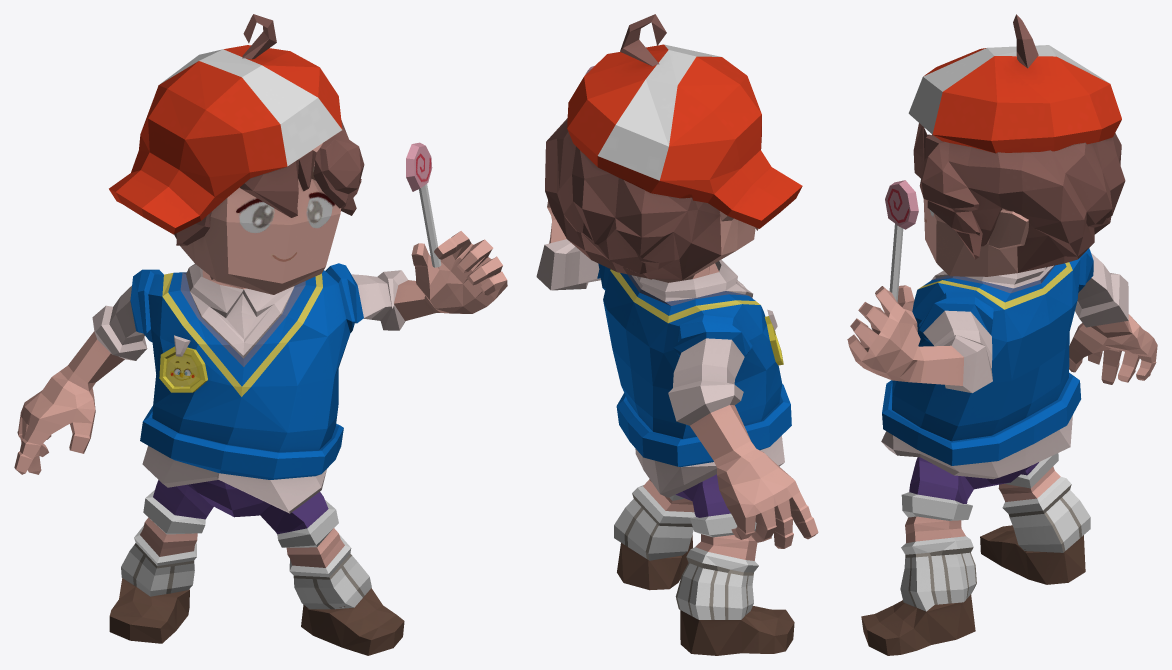
Rendered from SK_Lowpoly_47.gltf.
The picture shows the model from 3 angles, left to right: view 1: azimuth 30°, elevation 25°; view 2: azimuth 150°, elevation 25°; view 3: azimuth 270°, elevation 25°; orthographic projection.
Parts seen in each view (by area): view 1: SK_Lowpoly_Male_047_pose_8_StaticMeshComponent0; view 2: SK_Lowpoly_Male_047_pose_8_StaticMeshComponent0; view 3: SK_Lowpoly_Male_047_pose_8_StaticMeshComponent0.
Boxes of the visible parts, left/top/right/bottom form: SK_Lowpoly_Male_047_pose_8_StaticMeshComponent0: left=14, top=14, right=507, bottom=655; SK_Lowpoly_Male_047_pose_8_StaticMeshComponent0: left=536, top=14, right=818, bottom=655; SK_Lowpoly_Male_047_pose_8_StaticMeshComponent0: left=847, top=14, right=1157, bottom=655.
Size of the model in its own units: 1.05 by 1.59 by 0.7448.
Materials: 1 (1 with a texture image).
